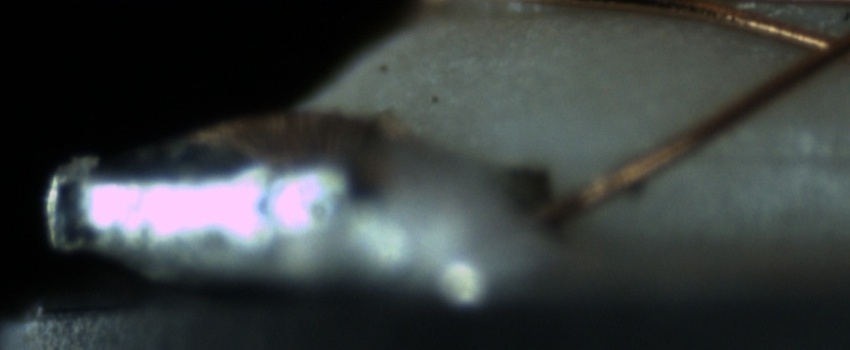CL: (777, 15, 848, 78)
DL: (684, 123, 850, 189)
